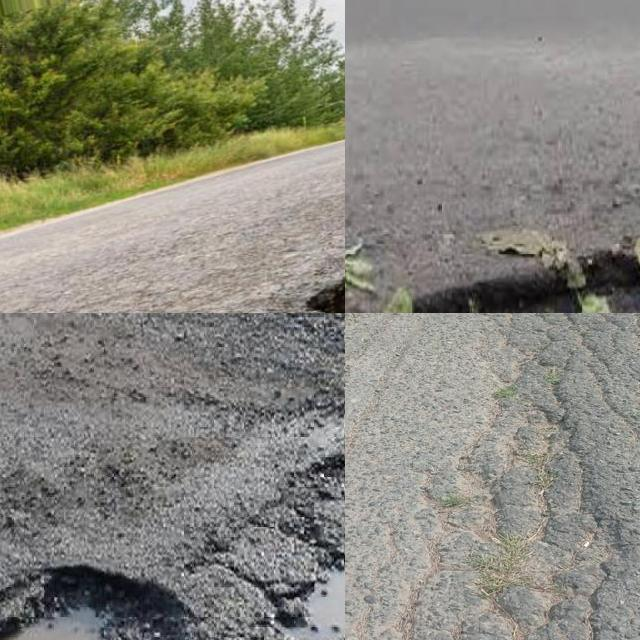Lubang: (217, 465, 345, 640), (0, 564, 195, 640)
Retak Buaya: (395, 313, 640, 640)
